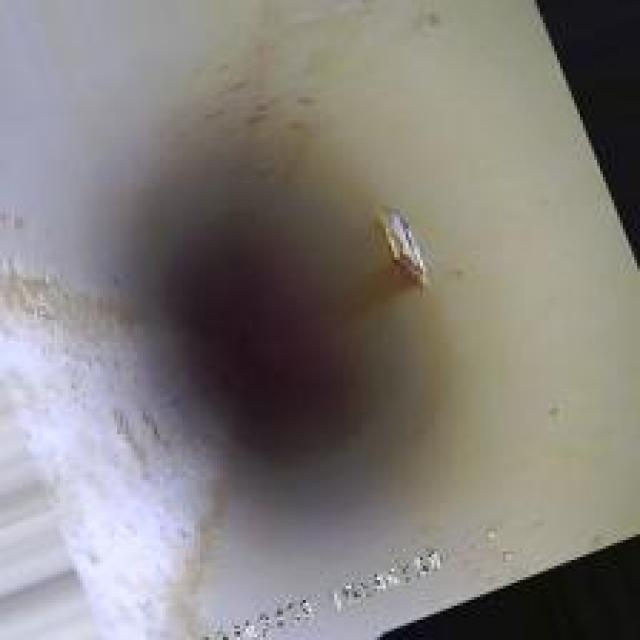ferrule: (363, 194, 434, 294)
